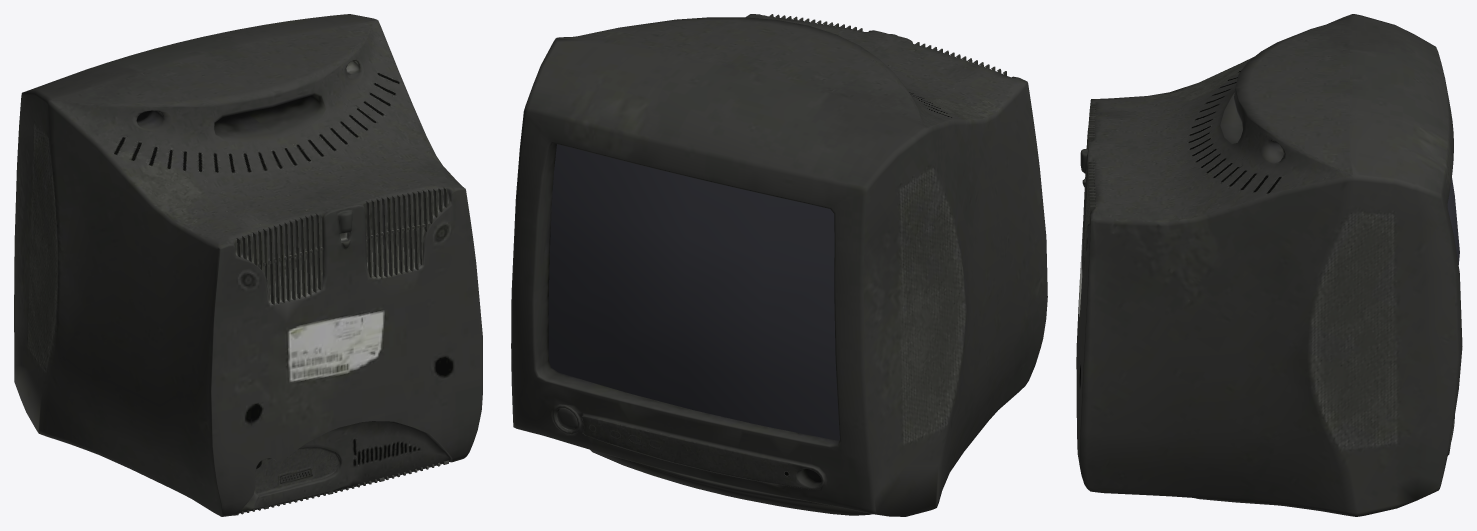
Rendered from crt-tv-new.glb.
3 views of the same model, side by side, from view 1: azimuth 30°, elevation 25°; view 2: azimuth 150°, elevation 25°; view 3: azimuth 270°, elevation 25° (orthographic). The views are drawn at different scales.
Parts seen in each view (by area): view 1: LP__0; view 2: LP__0, LP__0.001; view 3: LP__0, LP__0.001.
Boxes of the visible parts, bbox=[...] form: LP__0: bbox=[14, 14, 482, 516]; LP__0: bbox=[511, 14, 1047, 516]; LP__0.001: bbox=[548, 144, 839, 440]; LP__0: bbox=[1076, 14, 1462, 516]; LP__0.001: bbox=[1447, 178, 1459, 264].
Bounding box in the file's own units: 1.73 × 1.65 × 1.61.
Materials: 2 (1 with a texture image).
